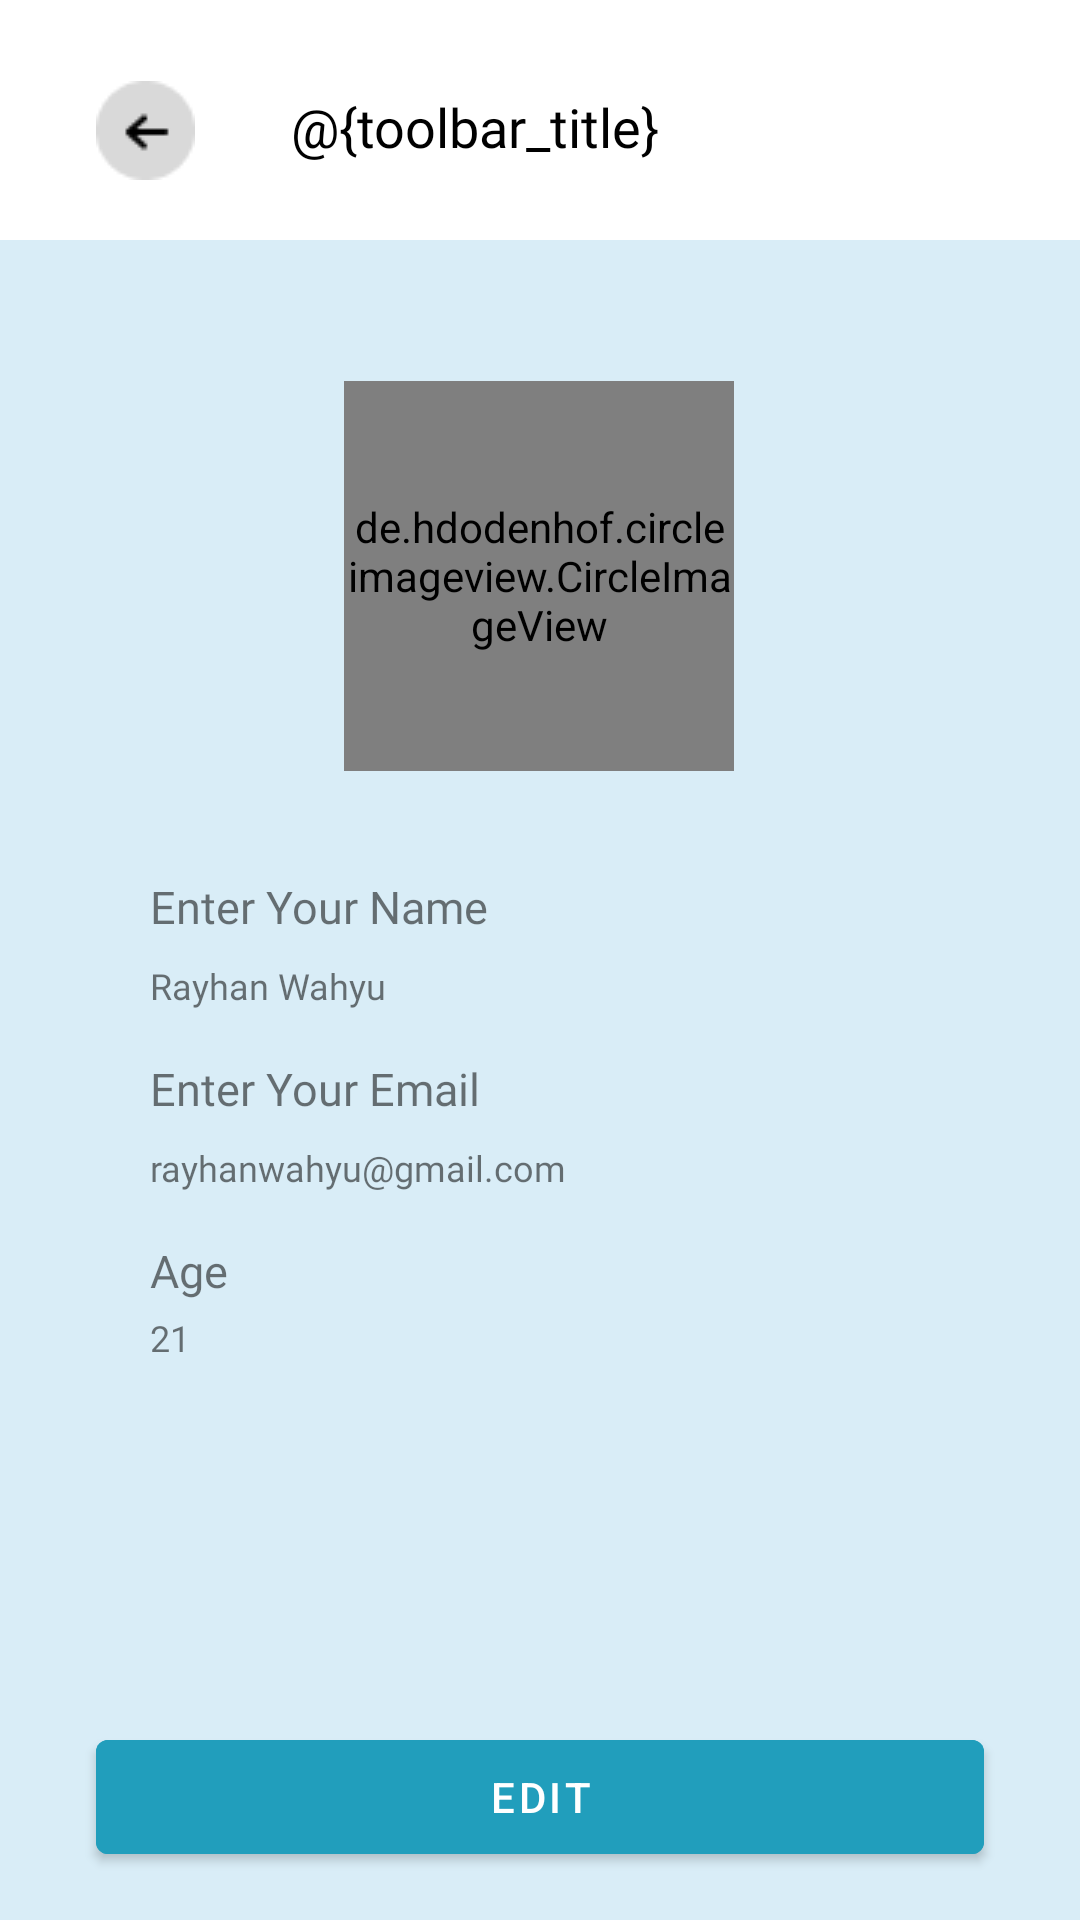

Icon bounding boxes for this 1080px x 1920px phone screenshot, format box(x1, y1, x2, y2):
back: box(96, 81, 195, 180)
